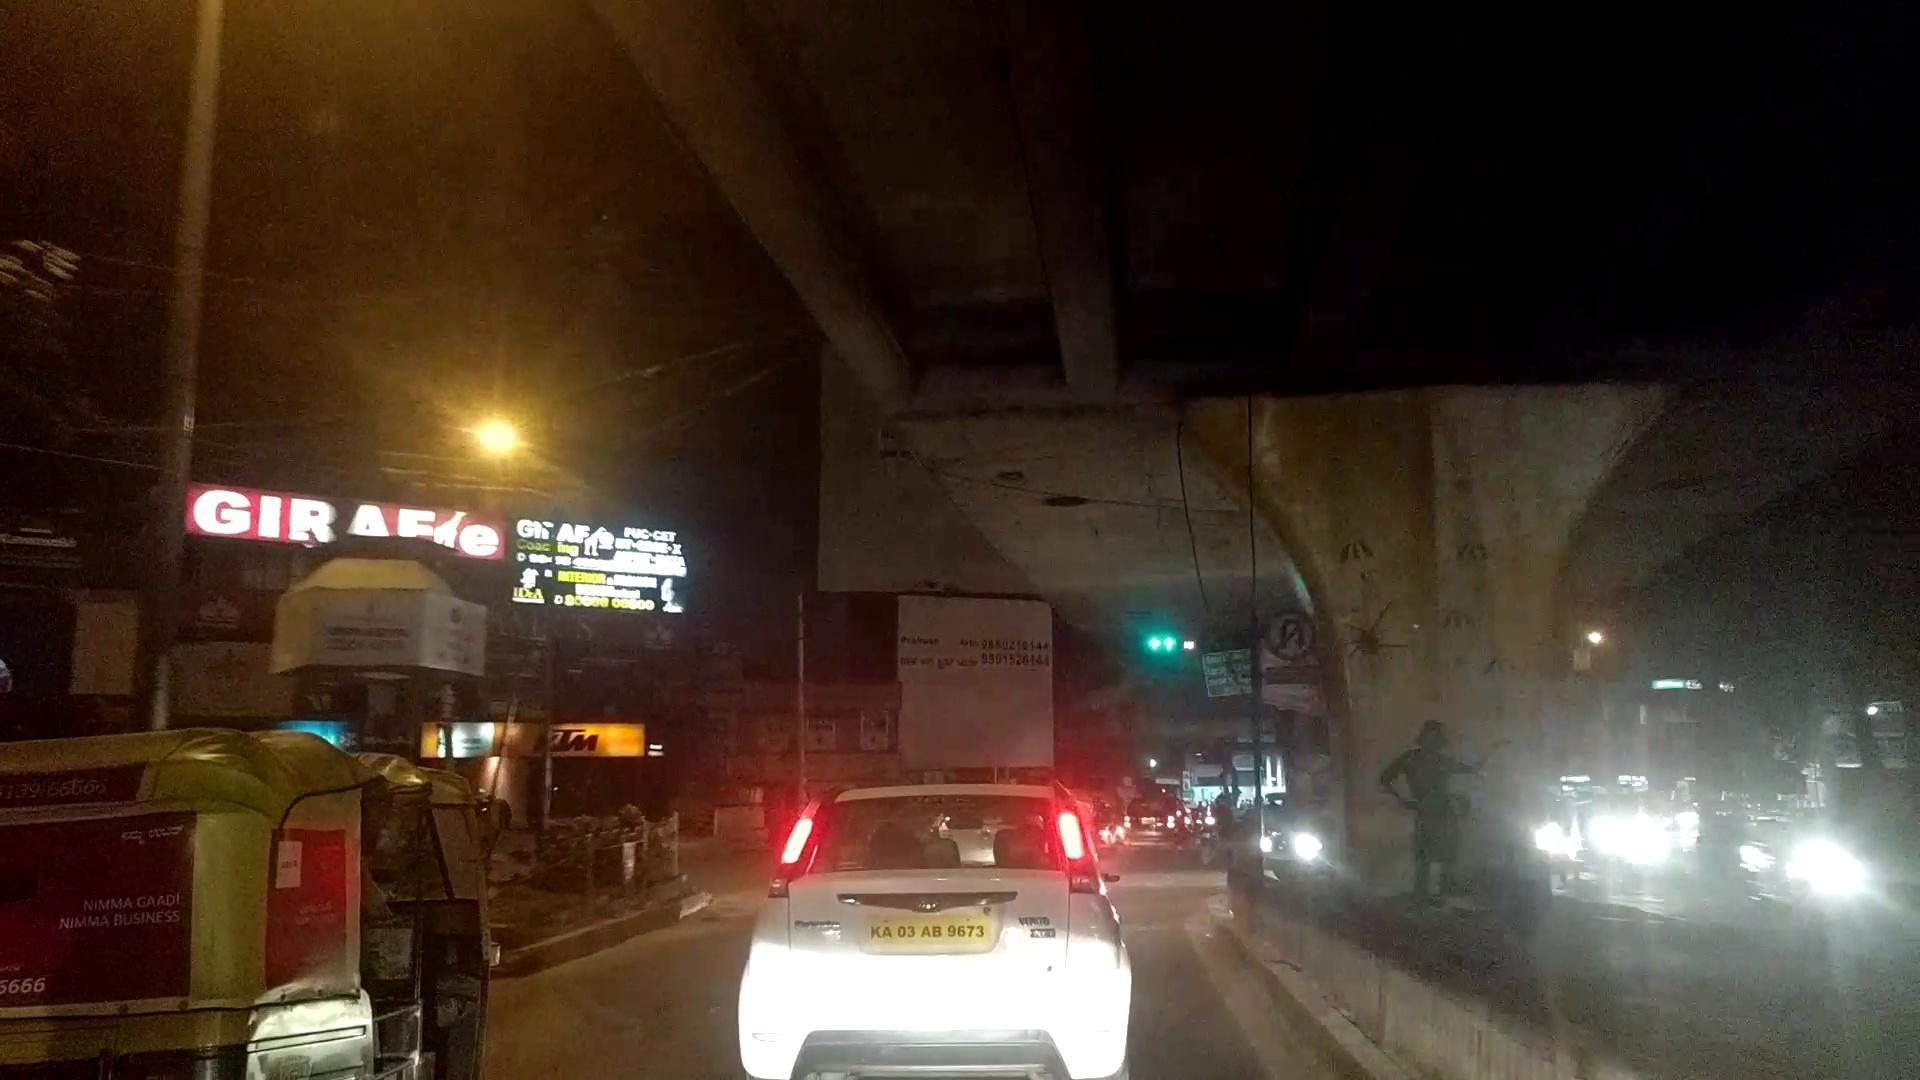on: (210, 282, 735, 603)
